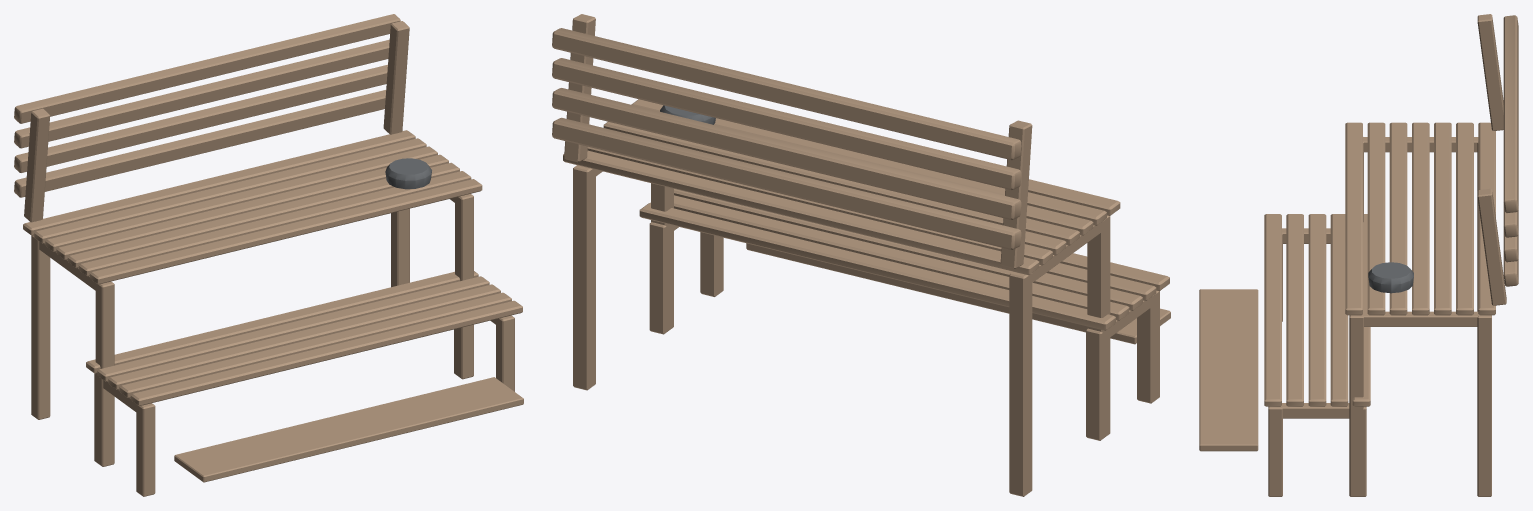
Rendered from hotel-and-resort-operations-sauna-bench-module-26b737ea__25939.glb.
3 views of the same model, side by side, from view 1: azimuth 30°, elevation 25°; view 2: azimuth 150°, elevation 25°; view 3: azimuth 270°, elevation 25° (orthographic). The views are drawn at different scales.
Visible parts, largest first — view 1: sauna-bench-module; view 2: sauna-bench-module; view 3: sauna-bench-module.
Part boxes in pixels (x1,y1,x2,y2): sauna-bench-module: [14, 14, 523, 496]; sauna-bench-module: [552, 14, 1170, 496]; sauna-bench-module: [1199, 14, 1518, 496].
Bounding box in the file's own units: 1.8 × 1.36 × 1.3.
